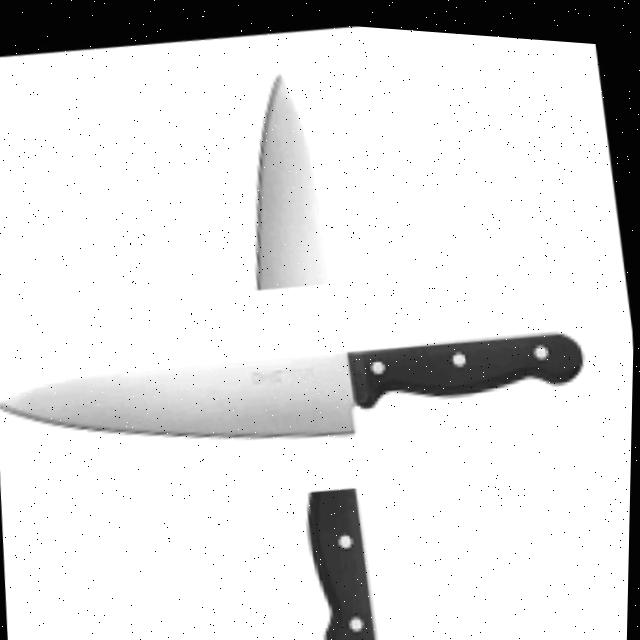knife: (0, 285, 592, 474), (230, 60, 393, 640)
